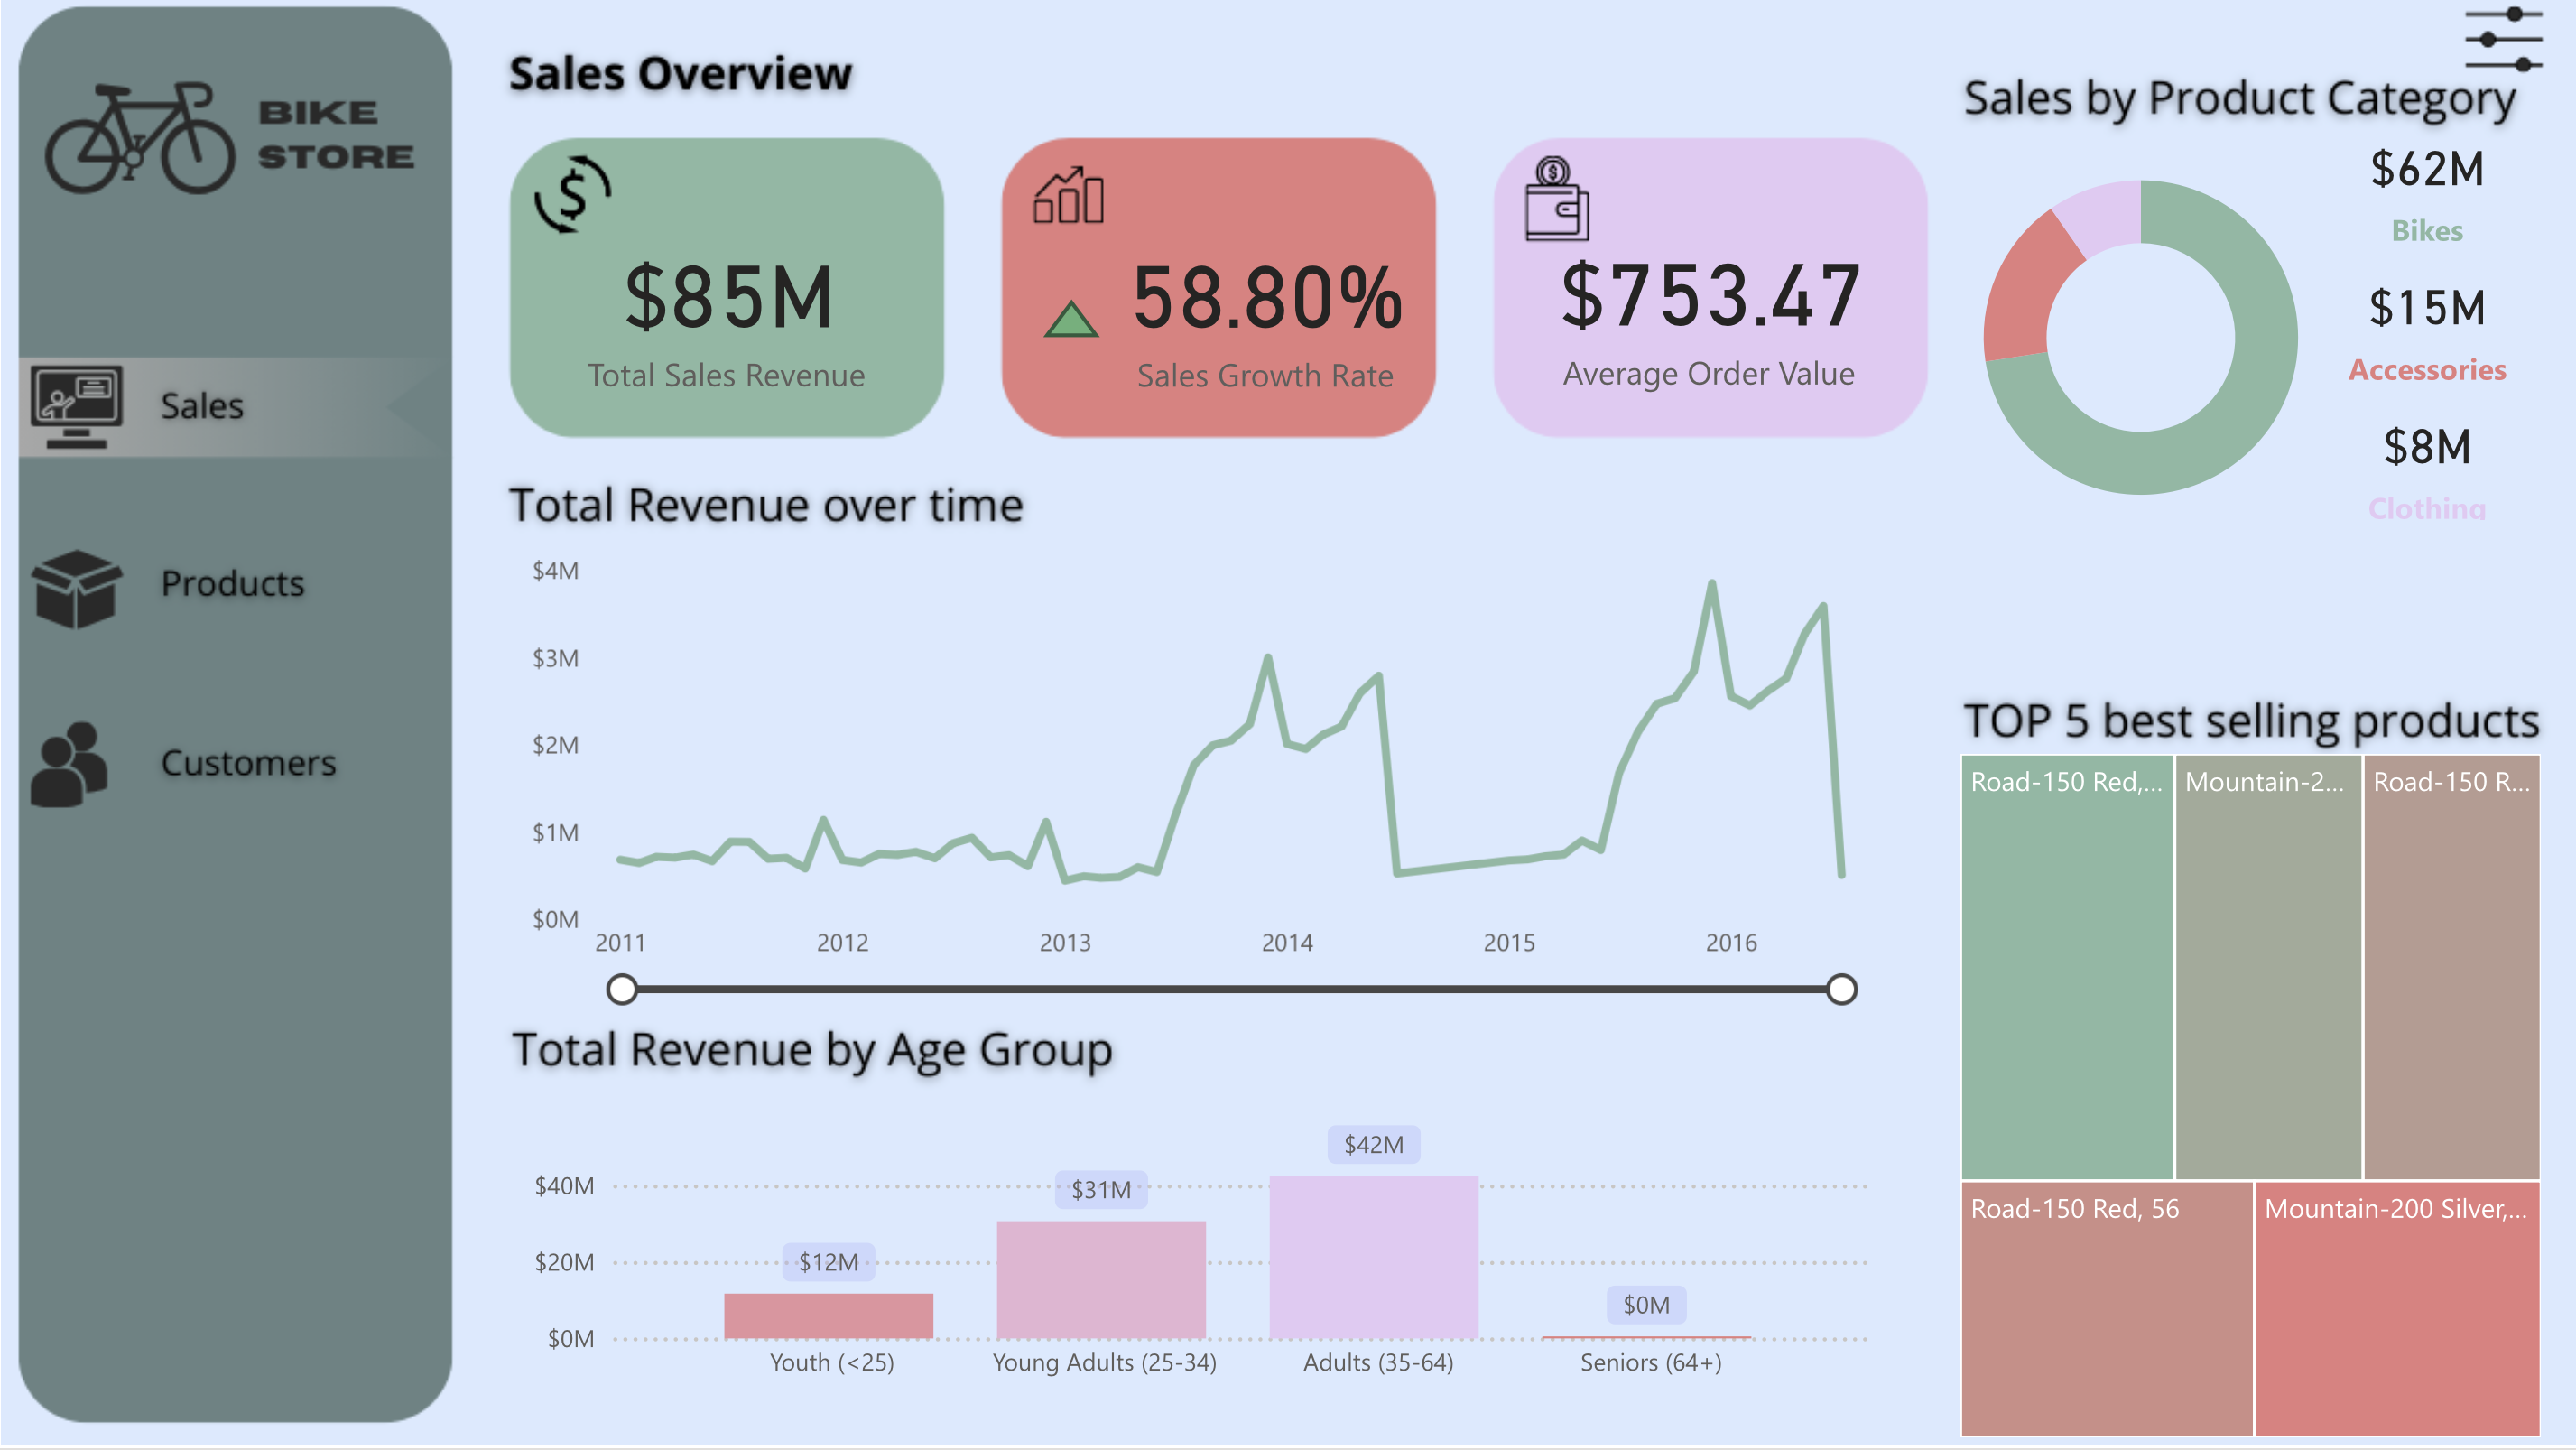

The page's visual inventory and layout, read from the dashboard file:
{"tool":"powerbi","page":{"name":"Sales Overview","canvas":[1280,720],"ordinal":1},"visuals":[{"type":"actionButton","box":[10,270,212,51],"z":0},{"type":"actionButton","box":[10,353,212,54],"z":1000},{"type":"card","fields":{"Values":["_Measures.Total Sales Revenue"]},"box":[264,92,194,125],"z":2000},{"type":"card","fields":{"Values":["_Measures.Average Order Value"]},"box":[751,91,194,125],"z":3000},{"type":"card","fields":{"Values":["_Measures.Sales Growth Rate"]},"box":[541.3,93.3,173.3,123.6],"z":4000},{"type":"lineChart","fields":{"Category":["DimDate.Date.Variation.Date Hierarchy.Year","DimDate.Date.Variation.Date Hierarchy.Quarter","DimDate.Date.Variation.Date Hierarchy.Month","DimDate.Date.Variation.Date Hierarchy.Day"],"Y":["_Measures.Total Sales Revenue"]},"box":[258.7,270.2,672.9,232.9],"z":5000},{"type":"columnChart","fields":{"Y":["_Measures.Total Sales Revenue"],"Category":["FactSales.Age_Group"]},"box":[258.5,545.5,673.2,150.2],"z":6000},{"type":"donutChart","fields":{"Category":["FactSales.Product_Category"],"Y":["_Measures.Total Sales Revenue"]},"box":[959,63,205,213],"z":7000},{"type":"card","fields":{"Values":["_Measures.Total Sales Revenue"]},"box":[1147.2,61.3,113.4,66.4],"z":8000},{"type":"card","fields":{"Values":["_Measures.Total Sales Revenue"]},"box":[1147.2,130.2,113.4,66.4],"z":9000},{"type":"card","fields":{"Values":["_Measures.Total Sales Revenue"]},"box":[1147.2,199.2,113.4,66.4],"z":10000},{"type":"treemap","fields":{"Group":["FactSales.Product"],"Values":["_Measures.Total Sales Revenue"]},"box":[967,371,298,349],"z":11000},{"type":"actionButton","box":[1219,0,46,46],"z":12000},{"type":"actionButton","box":[10,29,212,79],"z":14000},{"type":"tableEx","fields":{"Values":["_Measures.Sales Growth Rate"]},"box":[505,115,66,82],"z":15000}]}

Visuals, with their boxes in screenshot pixels (x1, y1, x2, y2), scaled from the page's 1280x720 canvas onto the 2576x1450 screenshot:
actionButton: region(20, 544, 447, 646)
actionButton: region(20, 711, 447, 820)
card - _Measures.Total Sales Revenue: region(532, 185, 922, 437)
card - _Measures.Average Order Value: region(1511, 183, 1902, 435)
card - _Measures.Sales Growth Rate: region(1089, 188, 1438, 437)
lineChart - DimDate.Date.Variation.Date Hierarchy.Year x DimDate.Date.Variation.Date Hierarchy.Quarter: region(521, 544, 1875, 1013)
columnChart - _Measures.Total Sales Revenue x FactSales.Age_Group: region(520, 1099, 1875, 1401)
donutChart - FactSales.Product_Category x _Measures.Total Sales Revenue: region(1930, 127, 2342, 556)
card - _Measures.Total Sales Revenue: region(2309, 124, 2537, 257)
card - _Measures.Total Sales Revenue: region(2309, 262, 2537, 396)
card - _Measures.Total Sales Revenue: region(2309, 401, 2537, 534)
treemap - FactSales.Product x _Measures.Total Sales Revenue: region(1946, 748, 2546, 1449)
actionButton: region(2453, 0, 2546, 93)
actionButton: region(20, 59, 447, 218)
tableEx - _Measures.Sales Growth Rate: region(1016, 232, 1149, 396)
